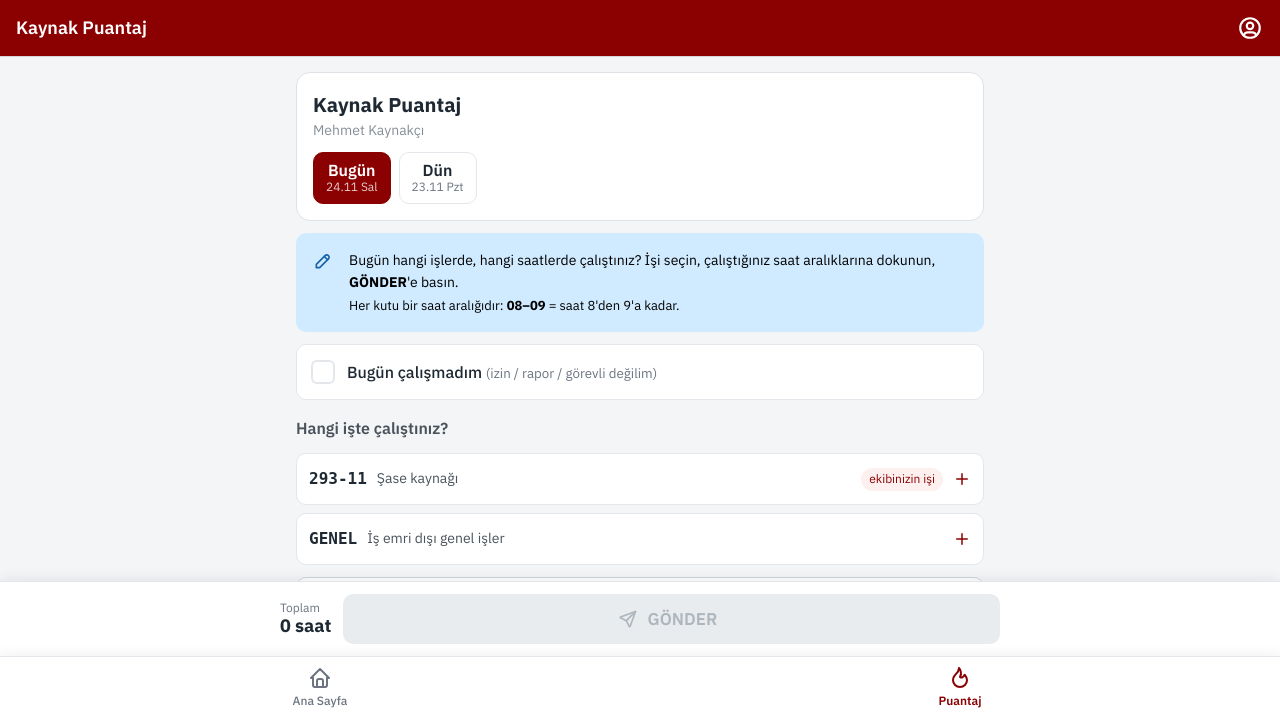
Scenario: timesheet page › adds a job, taps hours and sends the day
Check: the text "Mehmet Kaynakçı" is shown, box 313,121 -> 424,139
Check: the button "GÖNDER" is disabled, box 343,594 -> 1000,644
Click the button "293-11 Şase kaynağı ekibinizin işi".
click(338, 478)  # box 296,453 -> 984,505
(page scrolled)
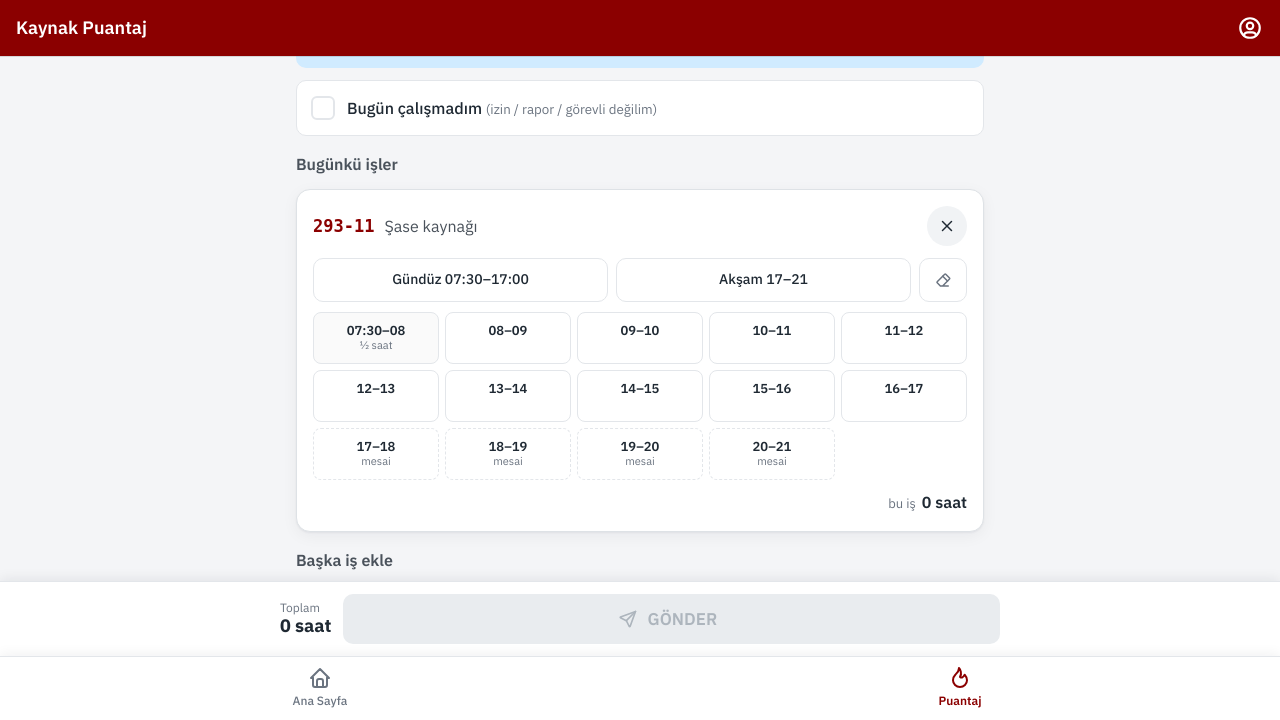
Click the button "Gündüz 07:30–17:00".
click(460, 280)  # box 313,258 -> 608,302
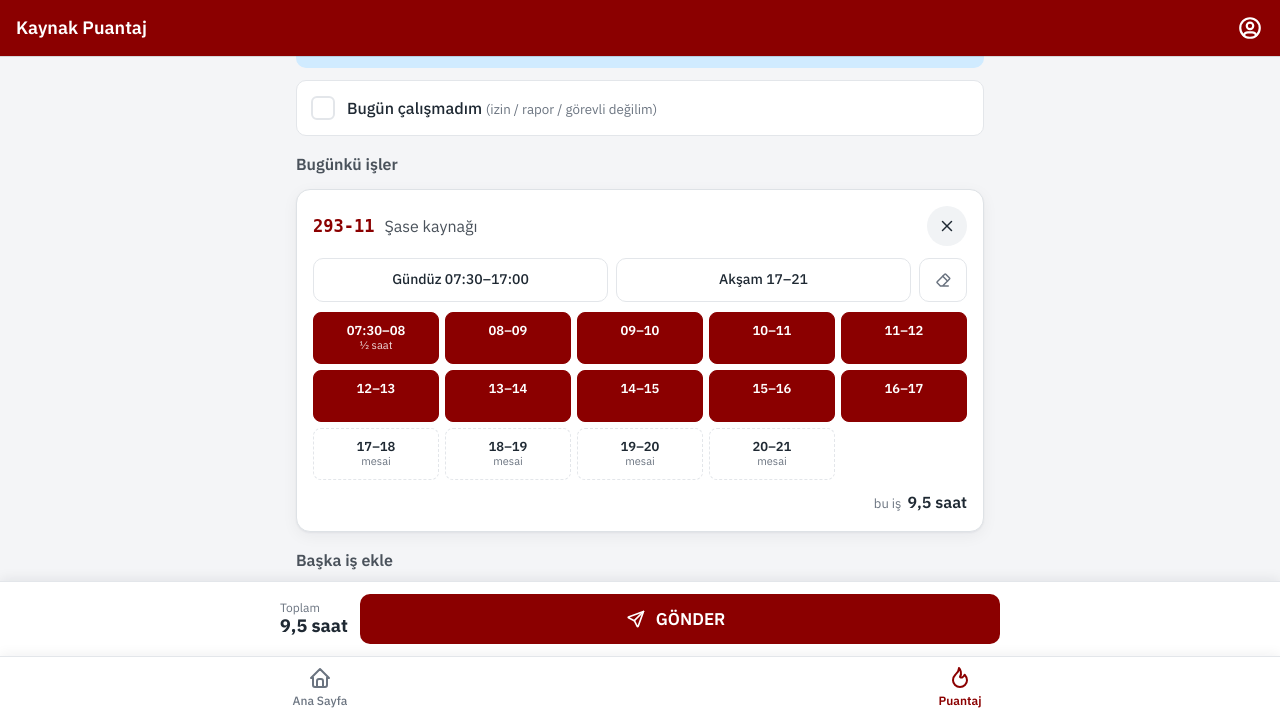
Check: the text "9,5 saat" is shown, box 280,615 -> 348,637
Click the button "GÖNDER".
click(680, 619)  # box 360,594 -> 1000,644
(page scrolled)
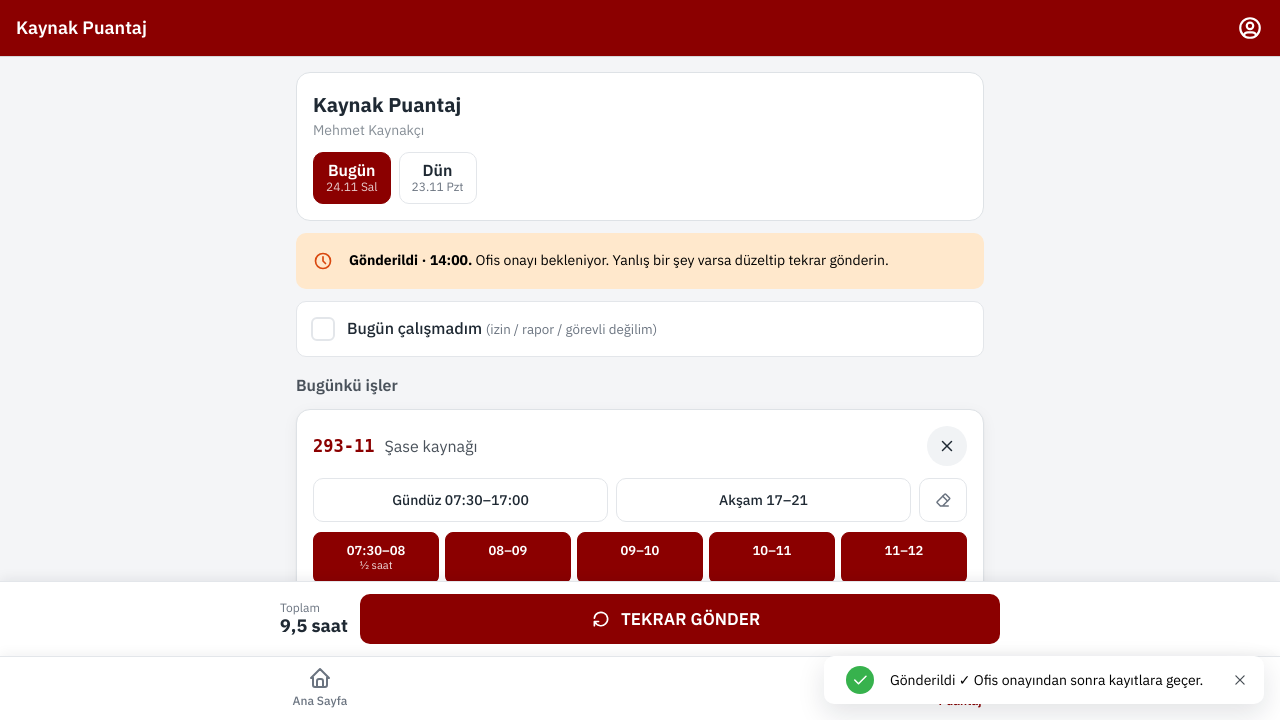
Check: the button "TEKRAR GÖNDER" is shown, box 360,594 -> 1000,644
